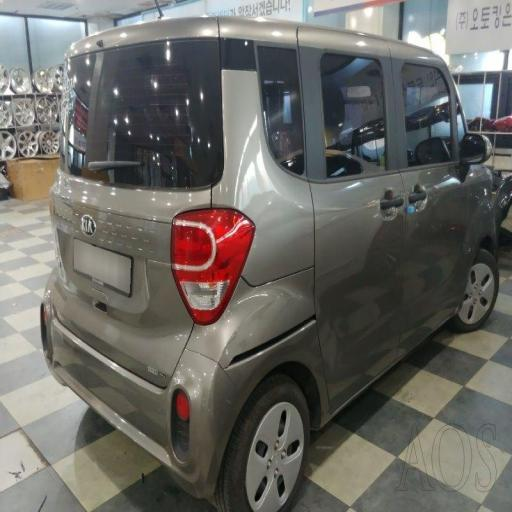broken: (183, 137, 335, 379)
scratch: (36, 280, 177, 446)
